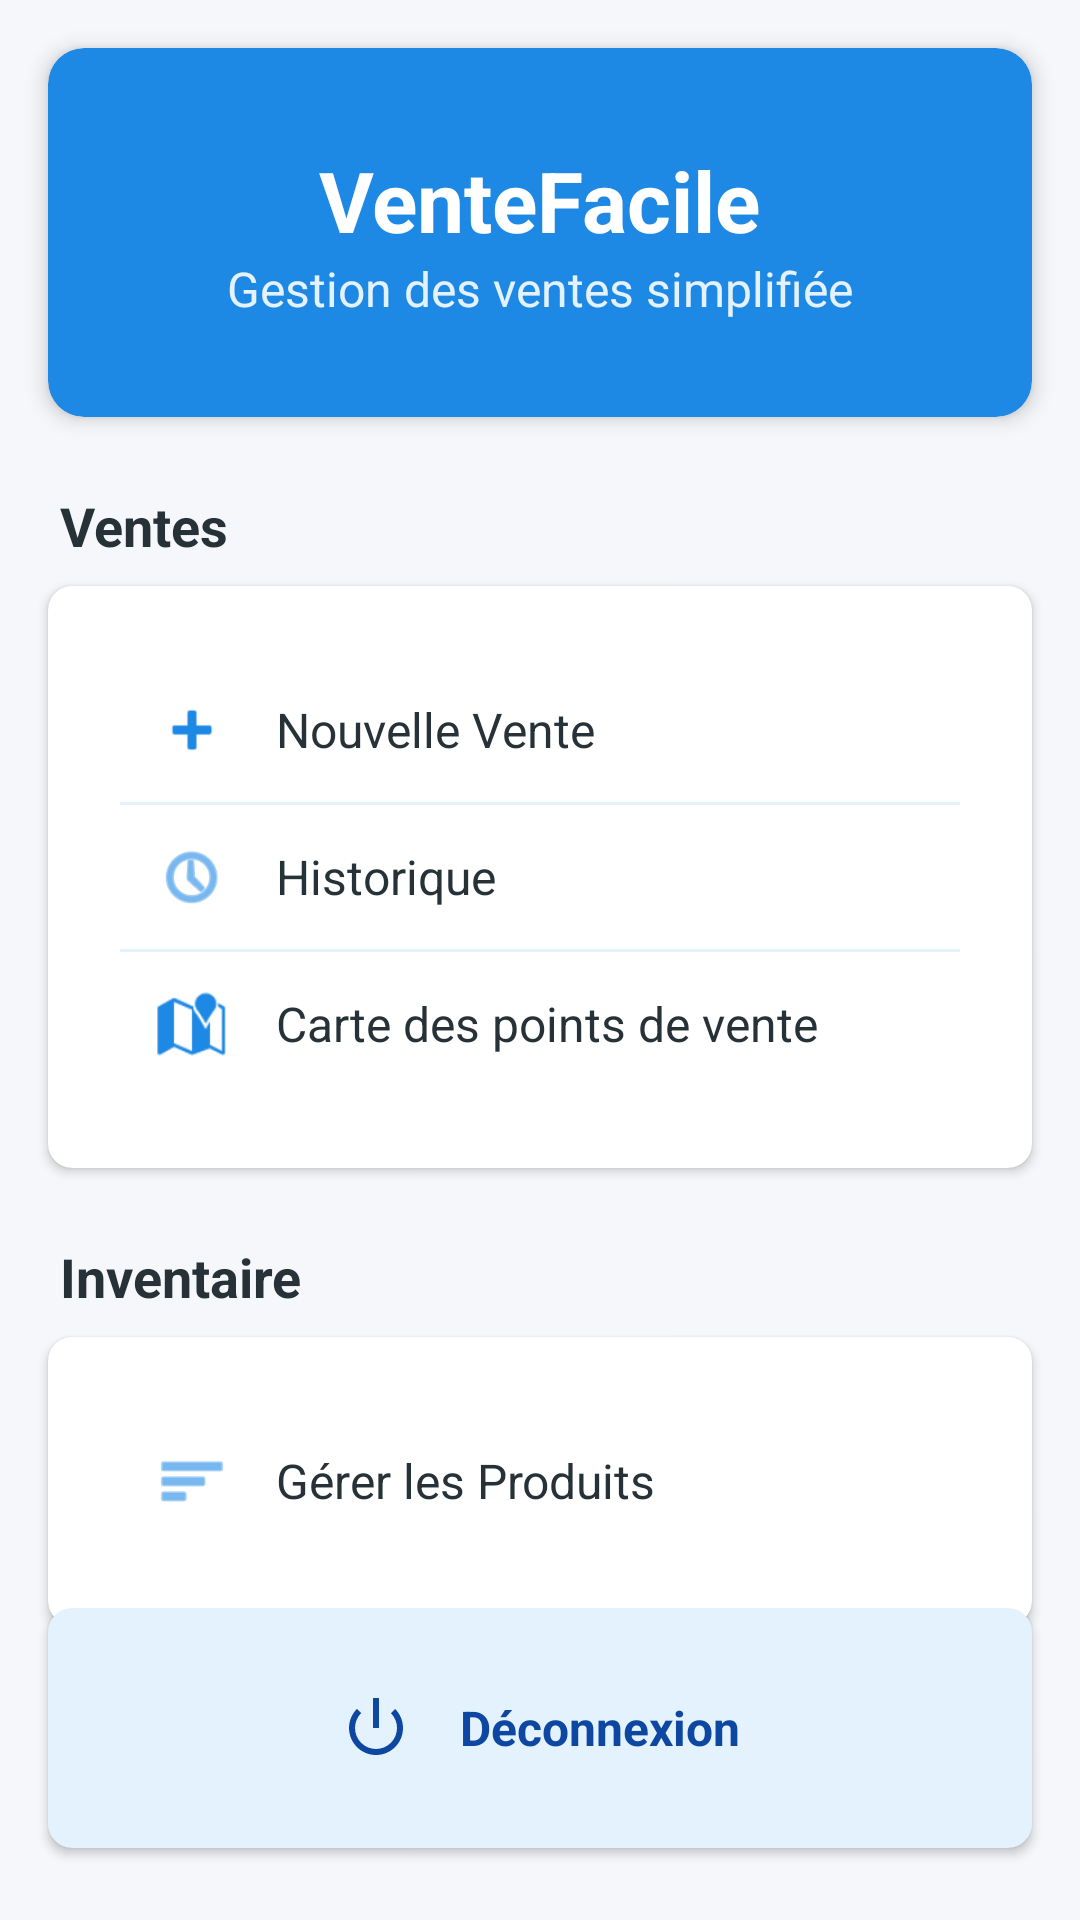

Named icons in this screenshot (1080px×1920px) and their centers, (x,y):
add: (192,730)
lock power off: (376,1726)
map: (191,1024)
recent history: (192,877)
sort by size: (192,1481)
